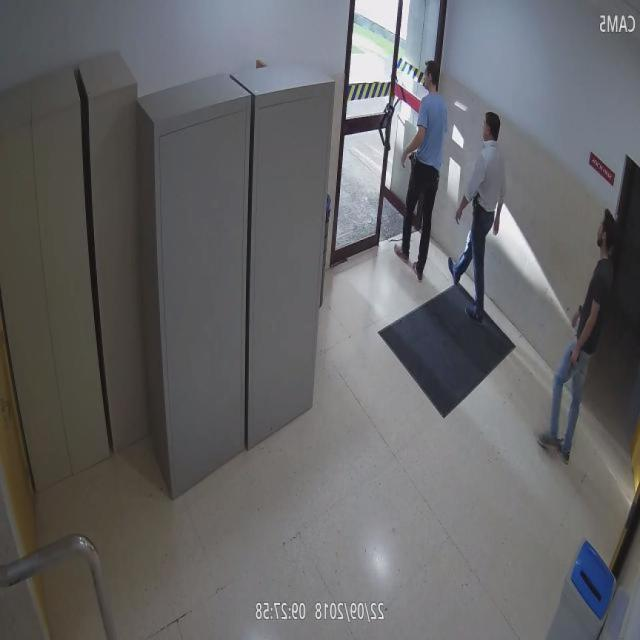pistol: (471, 189, 482, 223), (567, 350, 581, 376), (410, 149, 420, 177)
